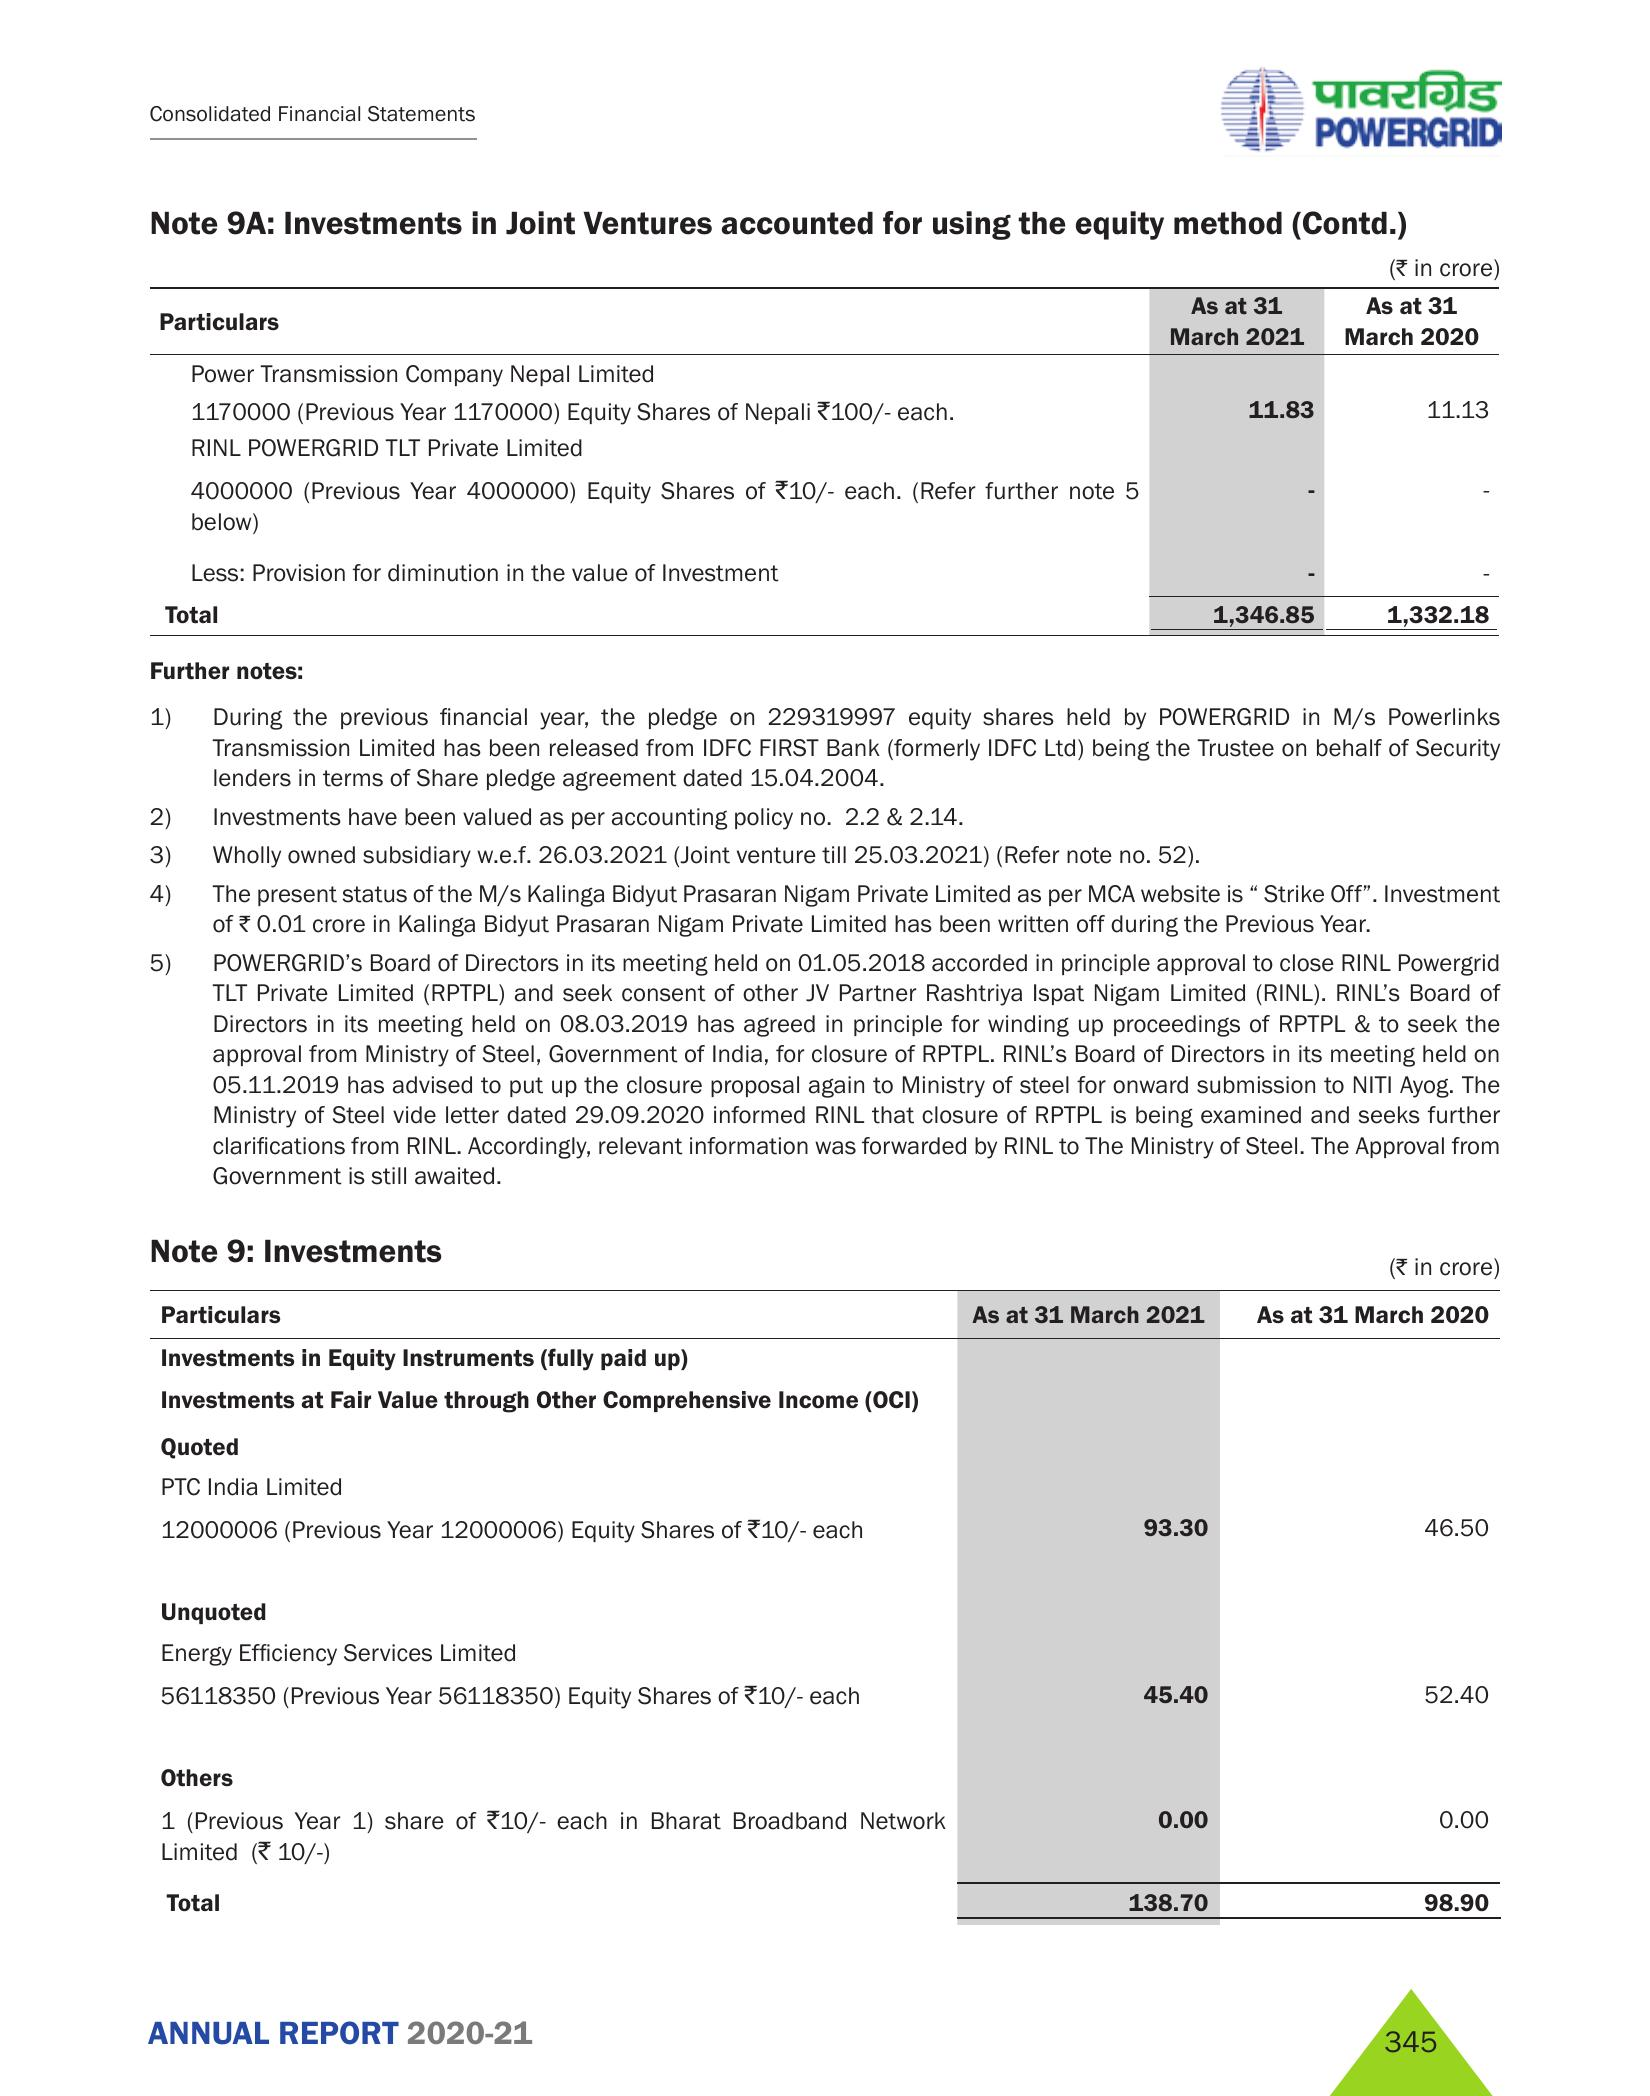Footer: (0, 1962, 1650, 2096)
Header: (0, 0, 1650, 172)
Table: (82, 1283, 1528, 1924), (129, 289, 1524, 633)
